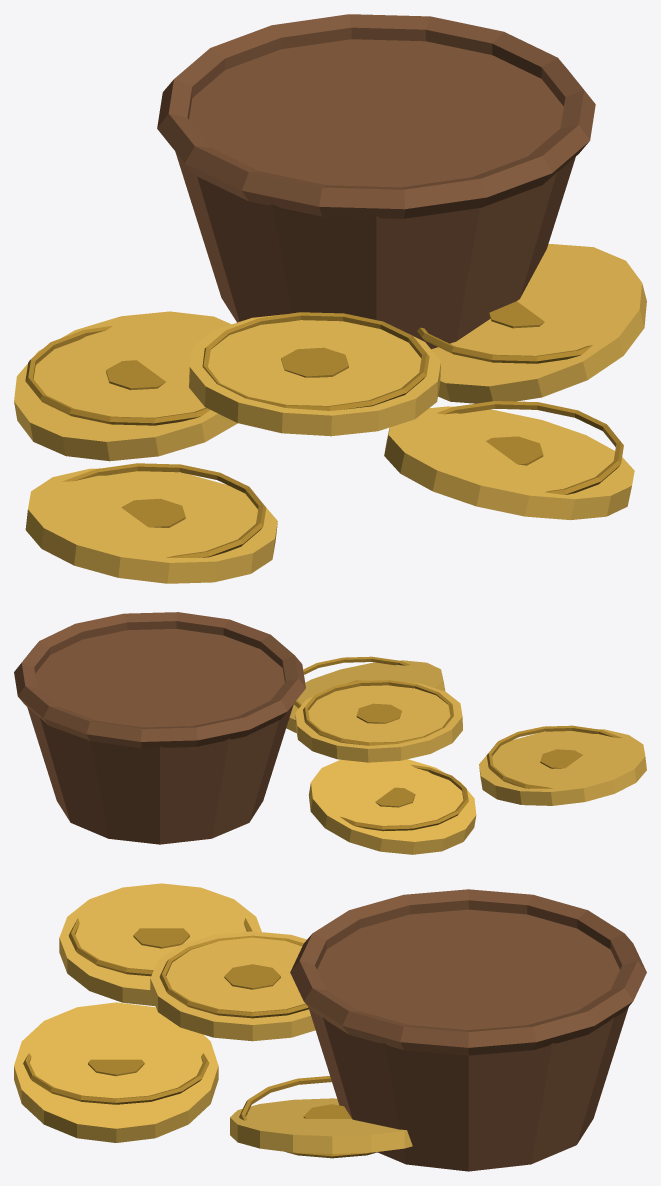
The model's file is gold.glb.
3 views of the same model, one above another, from view 1: azimuth 30°, elevation 25°; view 2: azimuth 150°, elevation 25°; view 3: azimuth 270°, elevation 25° (orthographic). The views are drawn at different scales.
Visible parts, largest first — view 1: pouch, pouch_rolled_lip, coin_4, coin_0, coin_1, coin_3, coin_2, coin_rim_4, coin_rim_0, coin_rim_1, coin_rim_2, coin_stamp_4 (+5 smaller); view 2: pouch, pouch_rolled_lip, coin_1, coin_4, coin_0, coin_2, coin_rim_4, coin_rim_0, coin_rim_1, coin_stamp_4, coin_rim_2, coin_stamp_0 (+1 smaller); view 3: pouch, coin_2, pouch_rolled_lip, coin_0, coin_4, coin_3, coin_rim_4, coin_rim_2, coin_stamp_4, coin_rim_3, coin_stamp_0, coin_rim_0 (+2 smaller).
Boxes of the visible parts, x1=… form: pouch: x1=175, y1=39, x2=575, y2=349; pouch_rolled_lip: x1=157, y1=14, x2=595, y2=218; coin_4: x1=189, y1=314, x2=440, y2=436; coin_0: x1=25, y1=468, x2=277, y2=583; coin_1: x1=14, y1=311, x2=237, y2=461; coin_3: x1=431, y1=244, x2=646, y2=403; coin_2: x1=384, y1=406, x2=634, y2=520; coin_rim_4: x1=202, y1=312, x2=429, y2=410; coin_rim_0: x1=62, y1=463, x2=266, y2=557; coin_rim_1: x1=25, y1=326, x2=210, y2=425; coin_rim_2: x1=436, y1=401, x2=623, y2=494; coin_stamp_4: x1=281, y1=347, x2=348, y2=377; pouch: x1=27, y1=628, x2=293, y2=844; pouch_rolled_lip: x1=14, y1=612, x2=305, y2=748; coin_1: x1=308, y1=759, x2=476, y2=854; coin_4: x1=295, y1=681, x2=462, y2=762; coin_0: x1=479, y1=729, x2=646, y2=805; coin_2: x1=286, y1=660, x2=445, y2=733; coin_rim_4: x1=303, y1=680, x2=453, y2=745; coin_rim_0: x1=486, y1=725, x2=621, y2=788; coin_rim_1: x1=340, y1=764, x2=468, y2=831; coin_stamp_4: x1=356, y1=703, x2=401, y2=723; coin_rim_2: x1=293, y1=656, x2=410, y2=708; coin_stamp_0: x1=540, y1=749, x2=582, y2=768; pouch: x1=308, y1=909, x2=628, y2=1171; coin_2: x1=14, y1=1002, x2=218, y2=1142; pouch_rolled_lip: x1=290, y1=889, x2=646, y2=1055; coin_0: x1=59, y1=883, x2=261, y2=1005; coin_4: x1=150, y1=931, x2=315, y2=1041; coin_3: x1=230, y1=1098, x2=412, y2=1153; coin_rim_4: x1=159, y1=935, x2=308, y2=1018; coin_rim_2: x1=23, y1=1053, x2=209, y2=1104; coin_stamp_4: x1=224, y1=964, x2=280, y2=989; coin_rim_3: x1=239, y1=1076, x2=379, y2=1158; coin_stamp_0: x1=133, y1=928, x2=189, y2=948; coin_rim_0: x1=68, y1=918, x2=252, y2=976.
Bounding box in the file's own units: 0.5873 × 0.1697 × 0.557.
